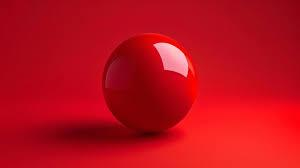red_circle: (96, 25, 205, 139)
